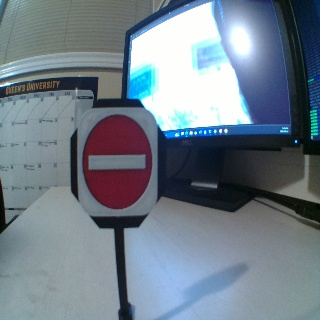sign_noentry: (78, 110, 157, 213)
